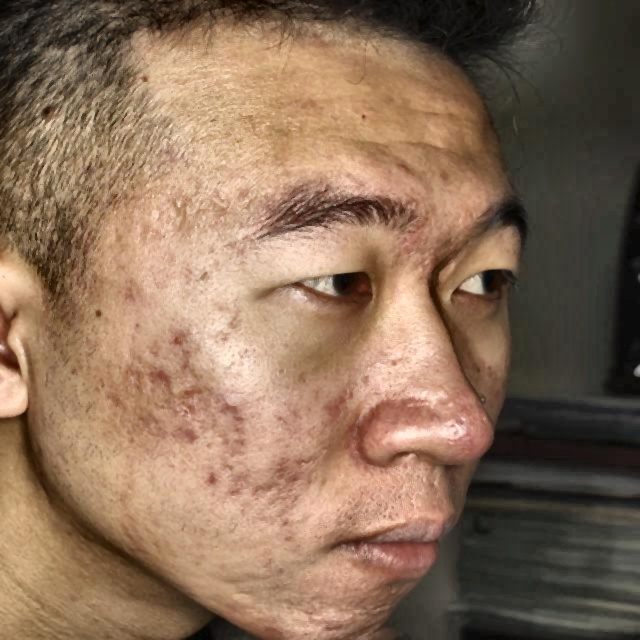pustule: (219, 391, 245, 424), (276, 462, 308, 488), (180, 424, 207, 448), (147, 366, 175, 388), (388, 160, 418, 180), (161, 334, 193, 352), (202, 469, 221, 489), (180, 380, 197, 400)
